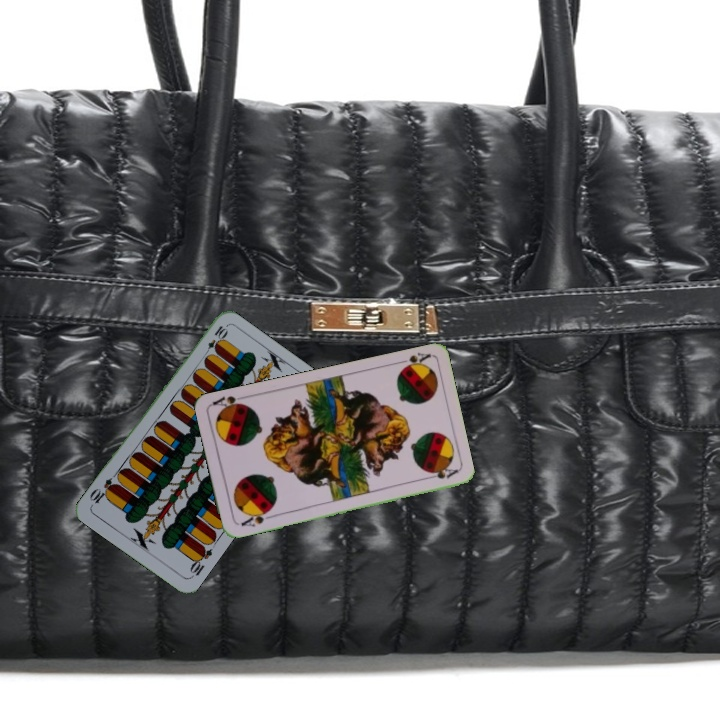E10: (185, 542, 215, 581), (200, 322, 229, 359)
SA: (392, 349, 433, 374), (237, 506, 275, 530)
